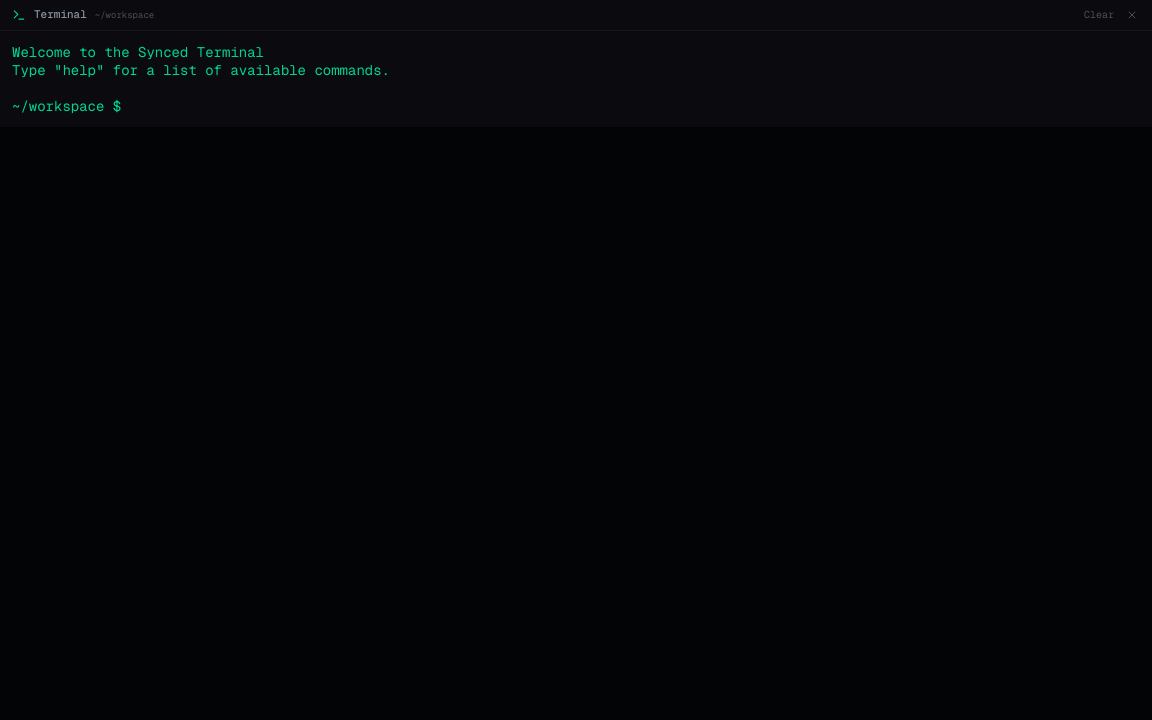
Test: TerminalPanel › shows help output
The image size is (1152, 720).
Type "help" into the field at {"x": 631, "y": 106}, box left=121, top=97, right=1140, bottom=115
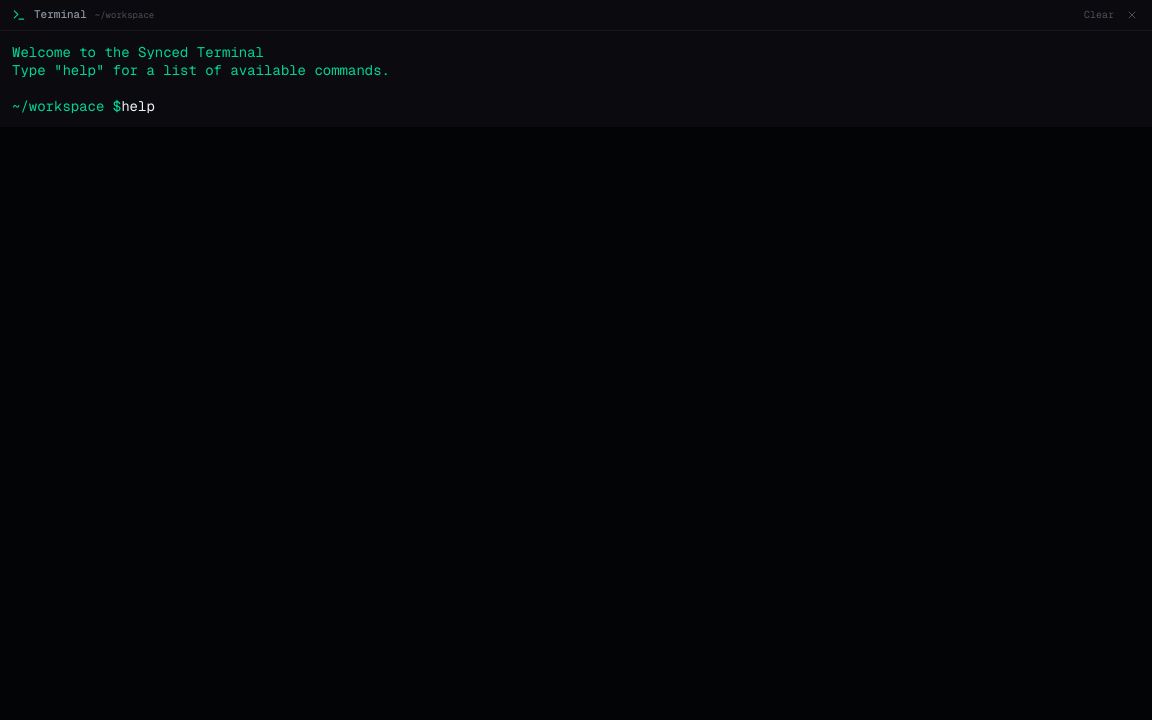
Press Enter in the field, box left=121, top=97, right=1140, bottom=115
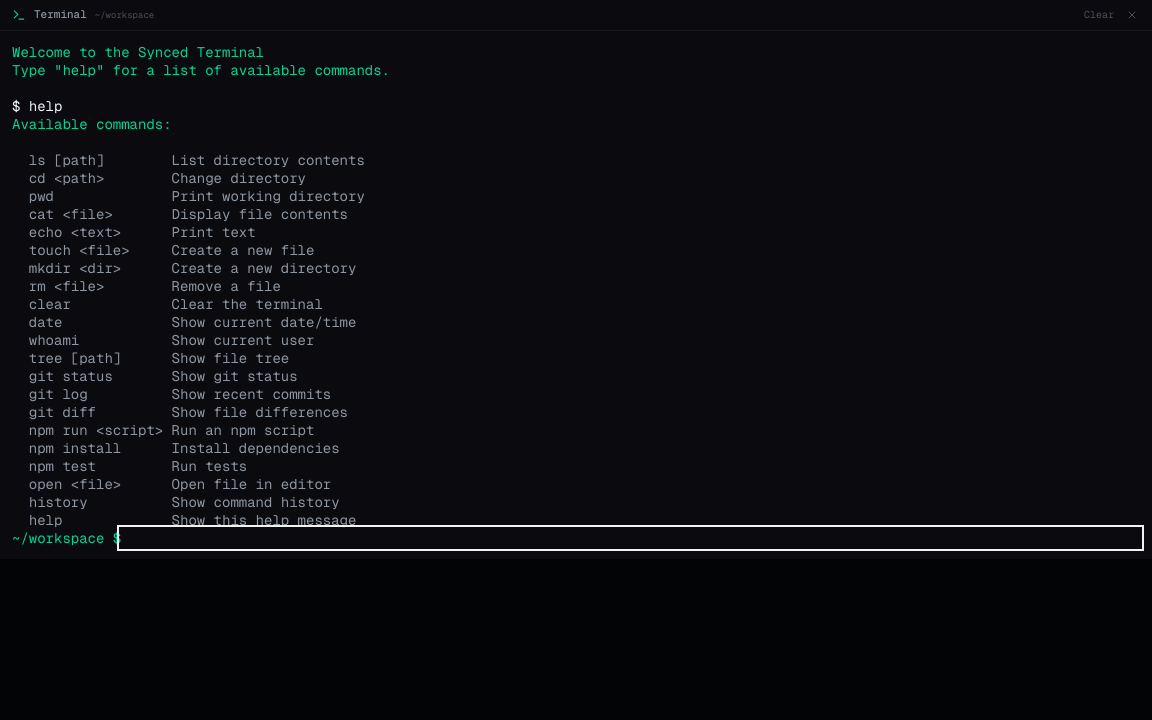
Expected: the text "Available commands:" is shown, left=12, top=115, right=172, bottom=133
